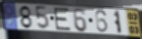1: (113, 10, 123, 35)
5: (34, 5, 51, 31)
6: (72, 7, 88, 33), (95, 9, 110, 34)
8: (19, 4, 34, 30)
E: (53, 8, 72, 32)
